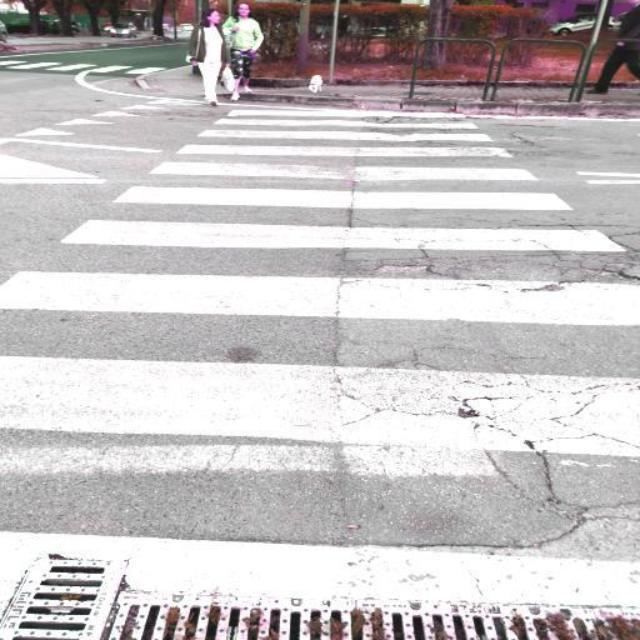sidewalk: (0, 109, 640, 458)
